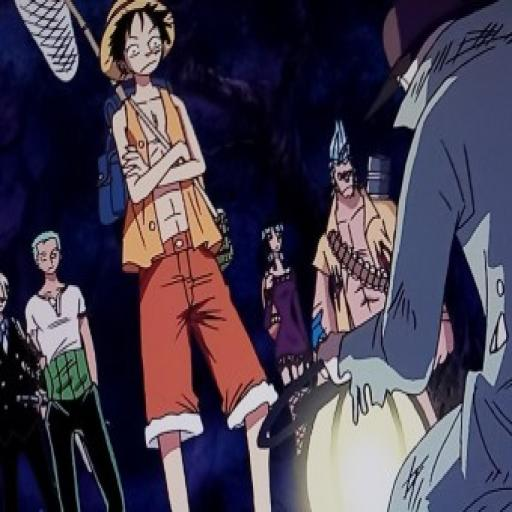Luffy: (90, 0, 185, 91)
NicoRobin: (258, 207, 296, 282)
Zoro: (28, 227, 70, 279)
